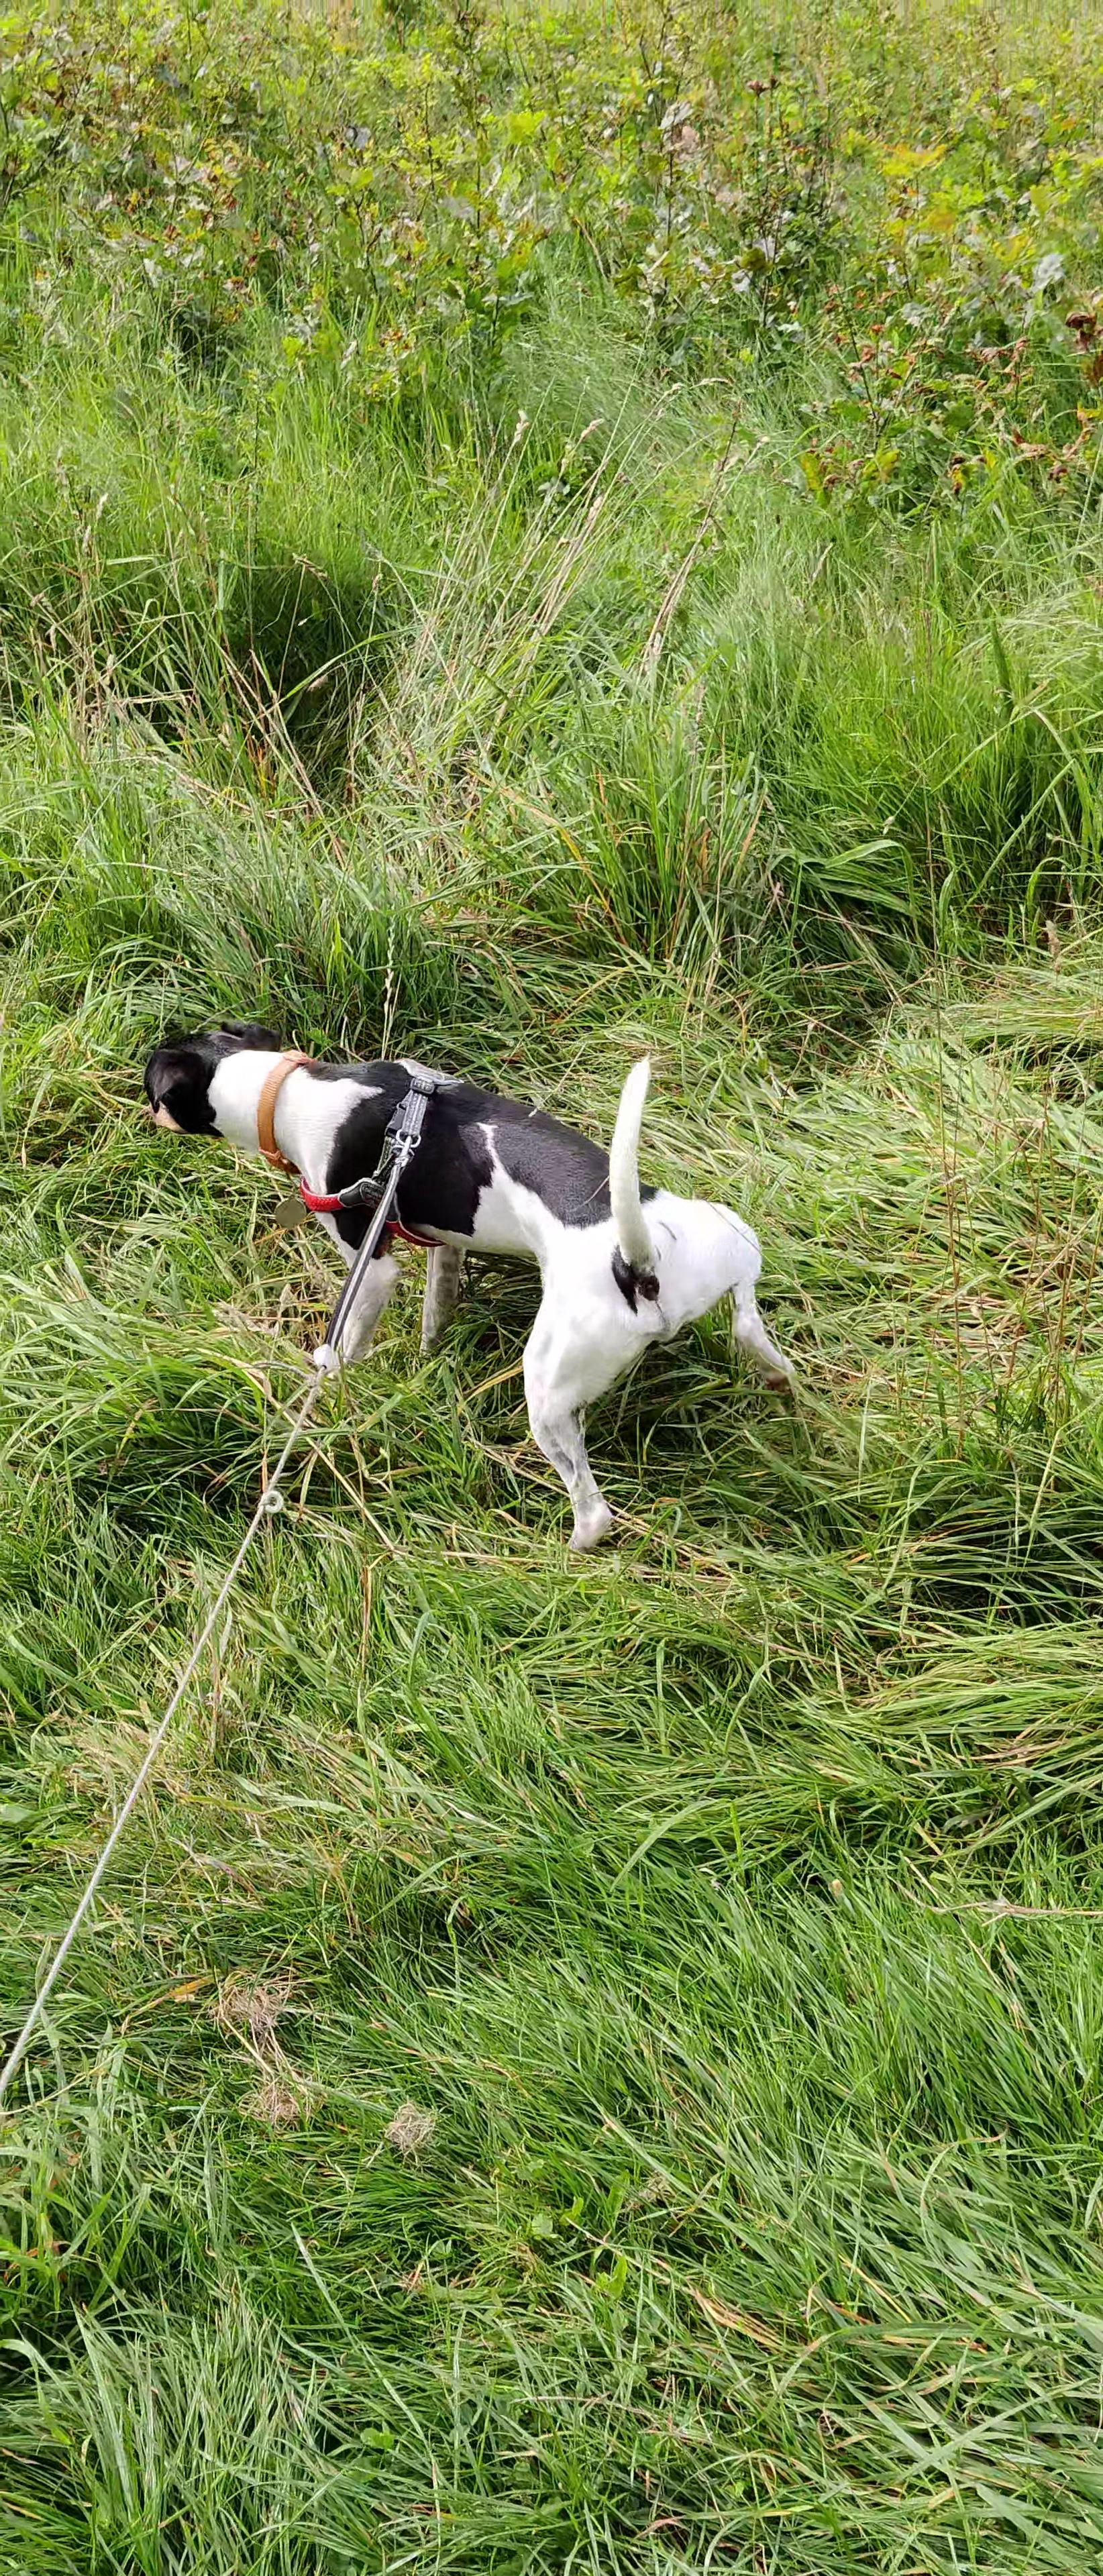Dog: (127, 1010, 796, 1551)
